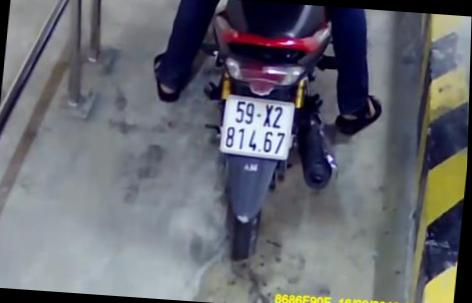LP: (219, 94, 297, 162)
